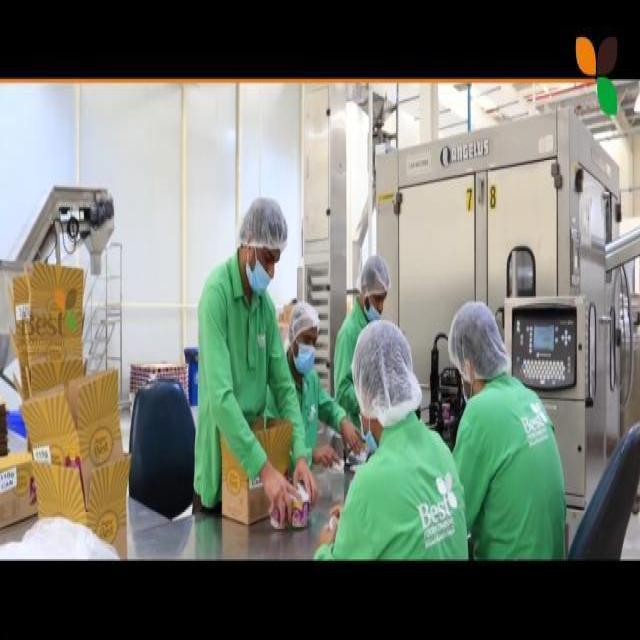bare_hand: (247, 446, 301, 537), (283, 443, 327, 519), (335, 394, 363, 461), (314, 436, 344, 472)
